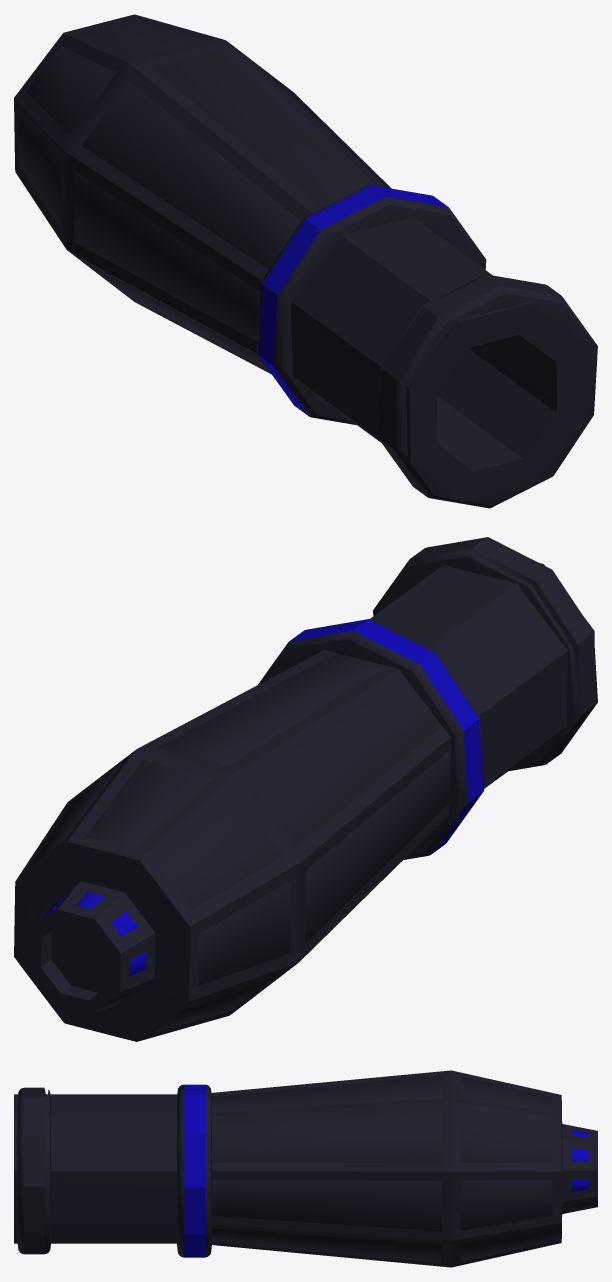
Rendered from CañonAzul.fbx.
The picture shows the model from 3 angles, top to bottom: view 1: azimuth 30°, elevation 25°; view 2: azimuth 150°, elevation 25°; view 3: azimuth 270°, elevation 25°; orthographic projection. The views are drawn at different scales.
Parts seen in each view (by area): view 1: cannon001; view 2: cannon001; view 3: cannon001.
Part boxes in pixels (x1,y1,x2,y2): cannon001: (14, 14, 597, 508); cannon001: (14, 537, 597, 1041); cannon001: (14, 1070, 597, 1267).
Bounding box in the file's own units: 14.6 × 14.51 × 46.38.
